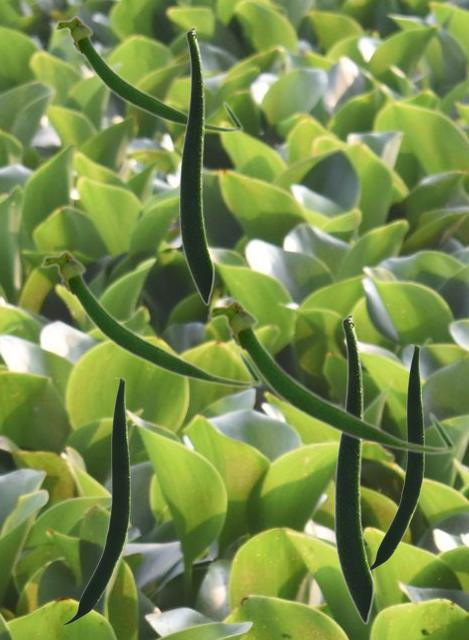french_bean: (205, 297, 456, 455), (39, 248, 262, 388), (53, 14, 243, 133), (61, 377, 129, 624), (333, 313, 374, 624), (371, 344, 423, 570), (178, 26, 214, 305)
